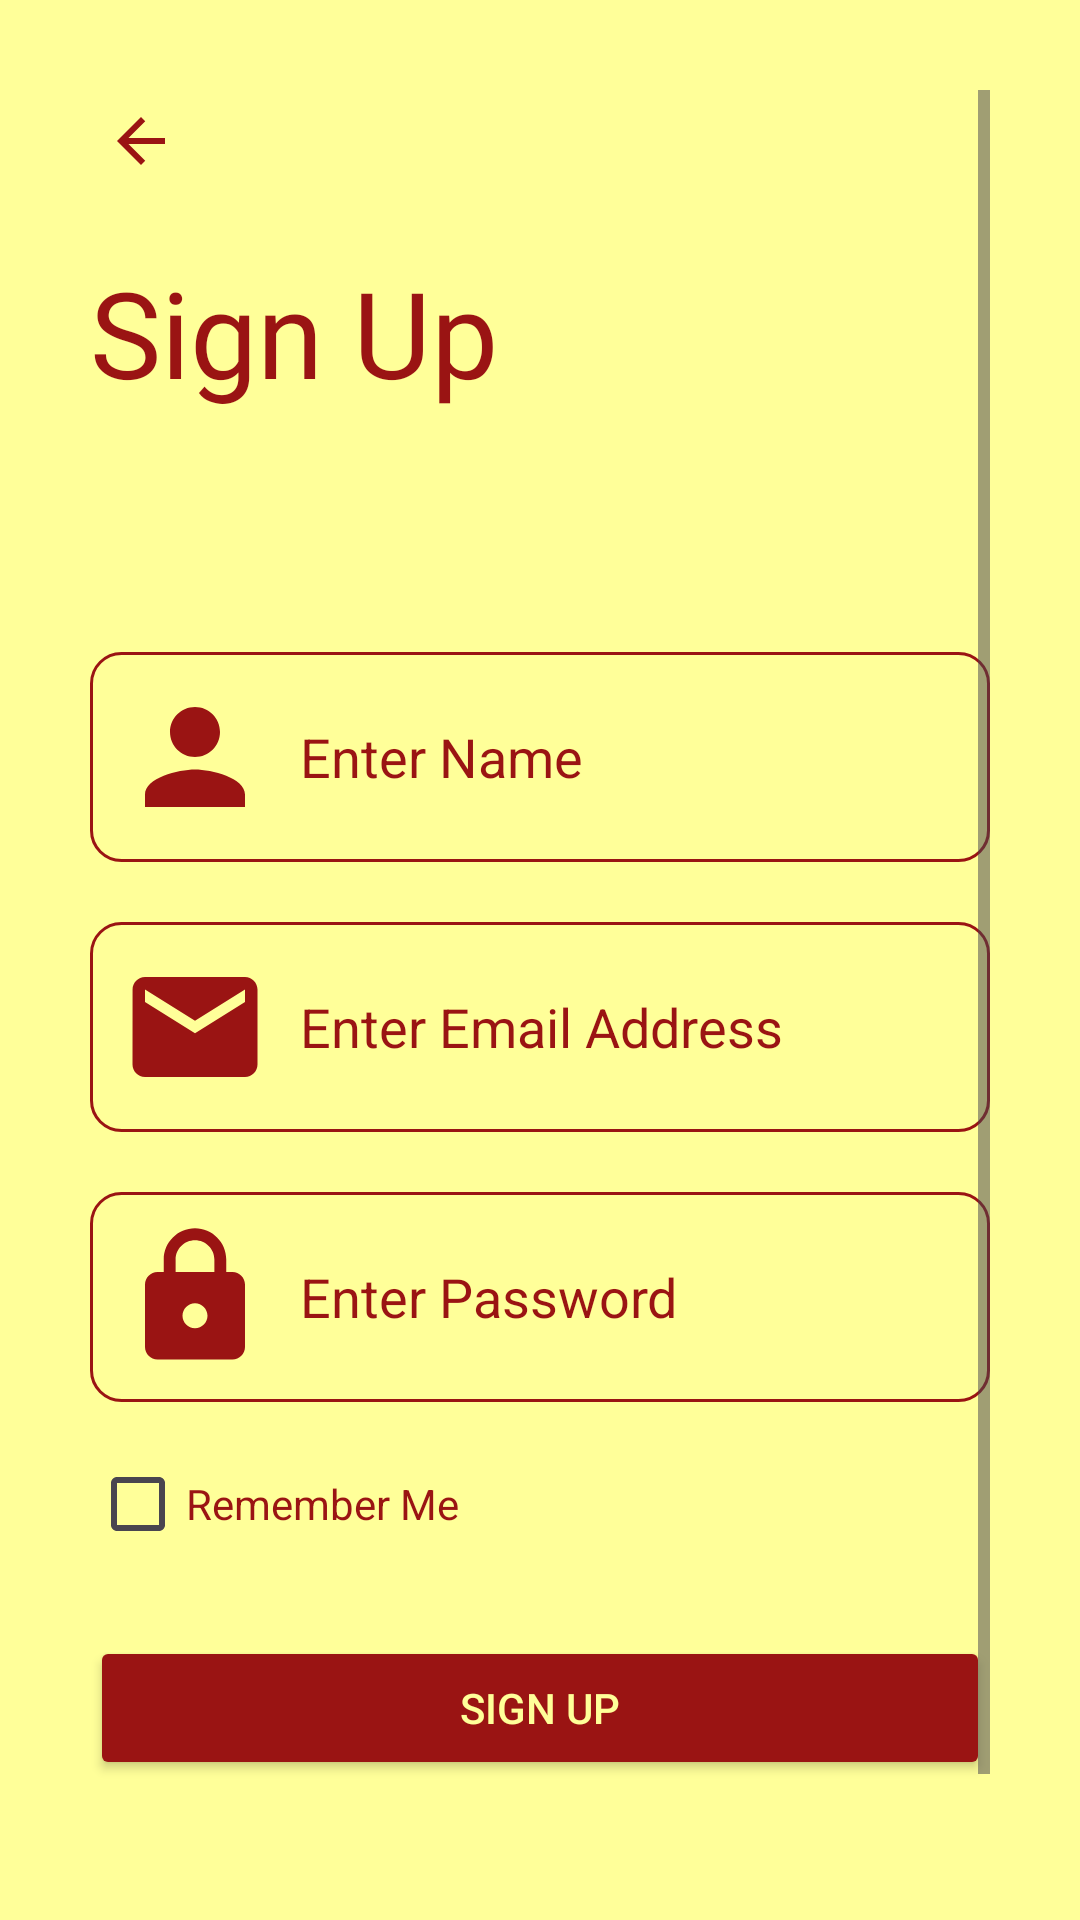

Icon click points for this 1080w x 1920h phone screenshot, format [x,y]:
arrow back: [141,141]
